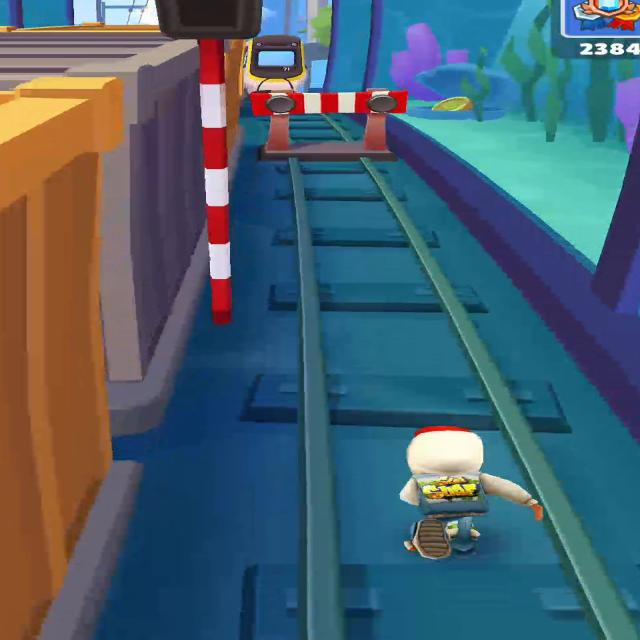blocker: (251, 89, 407, 151)
train: (0, 30, 208, 435), (0, 77, 125, 640), (239, 35, 307, 94)
